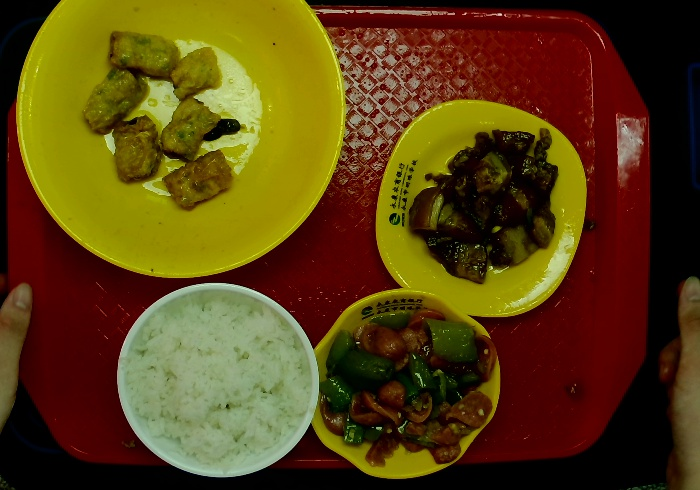YKMZ-Fan_Wan: (115, 283, 321, 481)
YKMZ-Huang_Se_Ao_Bian_Wan: (306, 287, 506, 480)
YKMZ-Huang_Se_Fang_Die: (372, 98, 589, 319)
YKMZ-Huang_Se_Tang_Wan: (10, 1, 345, 280)
